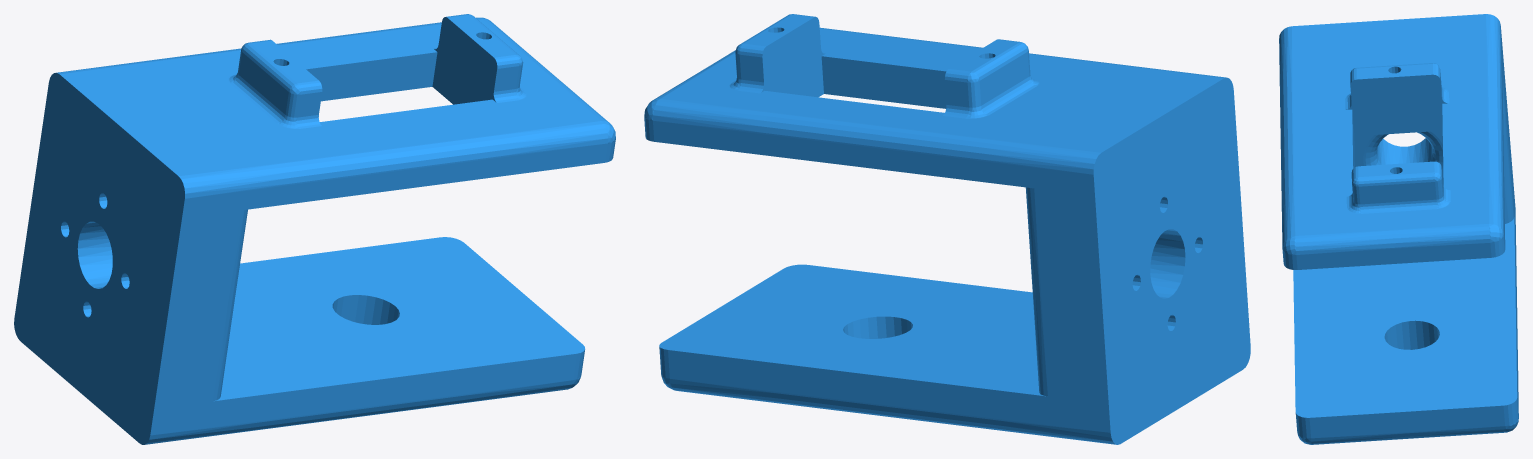
Rendered from UMIRobot_UMIRobot_link_5_vis_2.dae.
3 views of the same model, side by side, from view 1: azimuth 30°, elevation 25°; view 2: azimuth 150°, elevation 25°; view 3: azimuth 270°, elevation 25° (orthographic). The views are drawn at different scales.
Parts seen in each view (by area): view 1: node; view 2: node; view 3: node.
Boxes of the visible parts, x1,y1,x2,y2 form: node: (14, 14, 615, 444); node: (644, 14, 1250, 444); node: (1279, 14, 1518, 444).
Size of the model in its own units: 0.0633 by 0.0452 by 0.0345.
